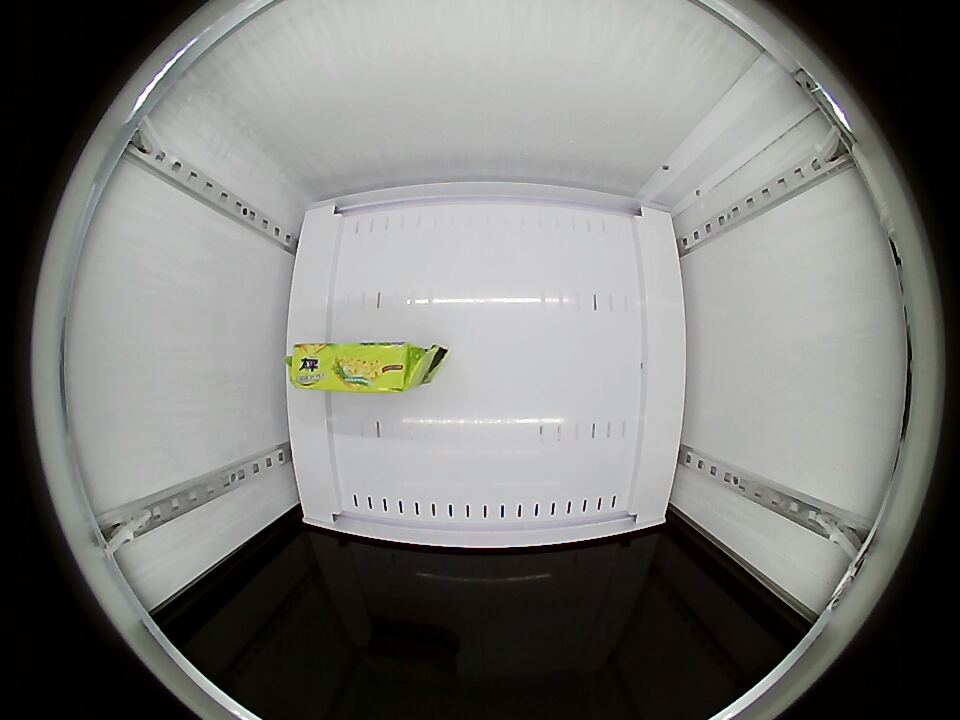taipingshuda: (286, 340, 430, 394)
